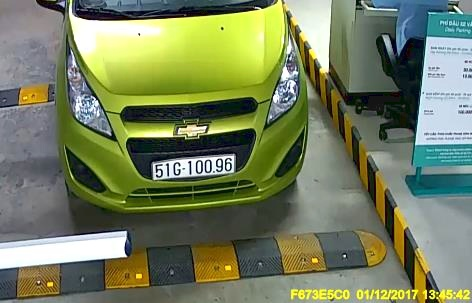plate: (147, 151, 234, 181)
